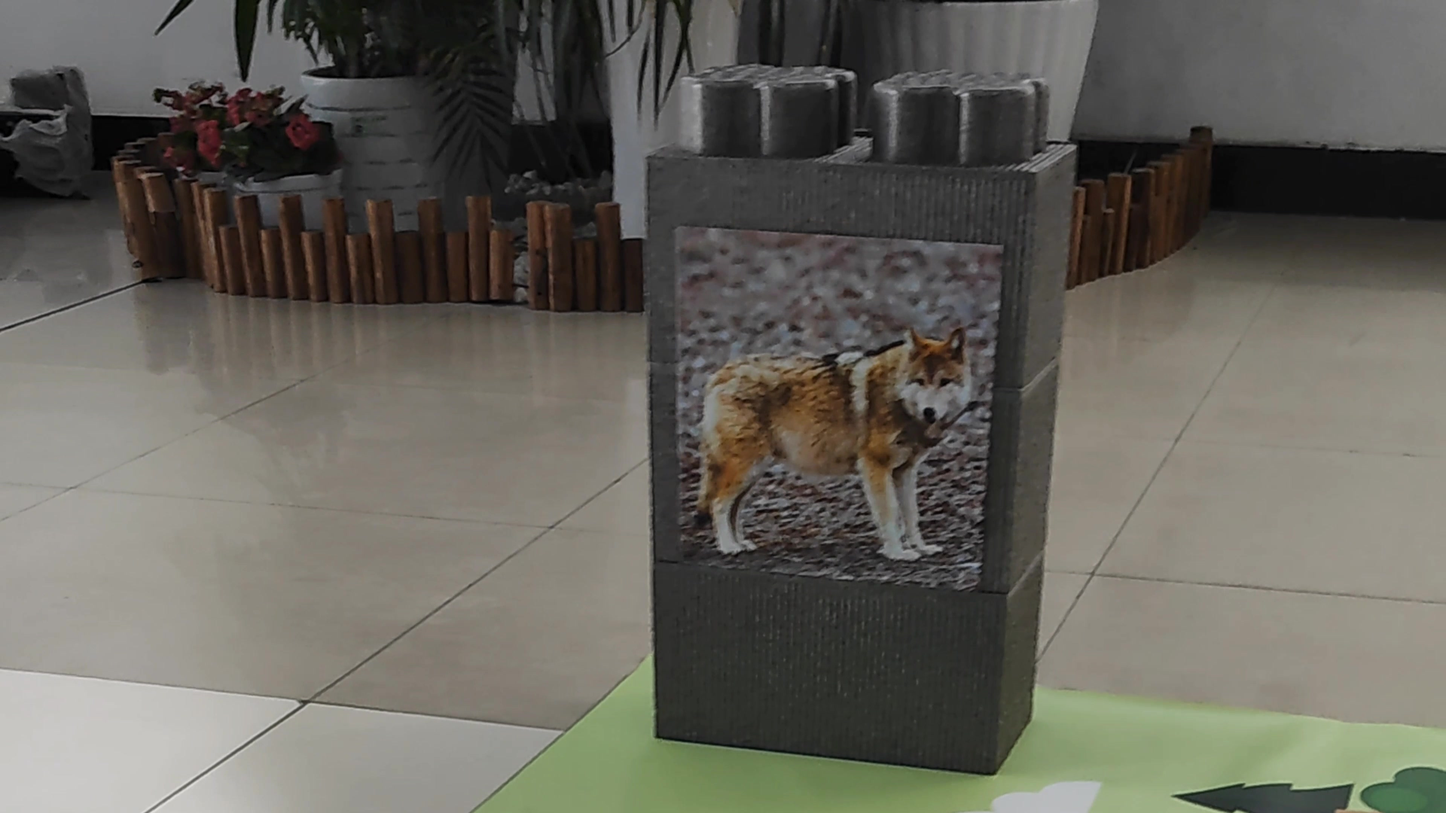wolf: (672, 286, 979, 568)
